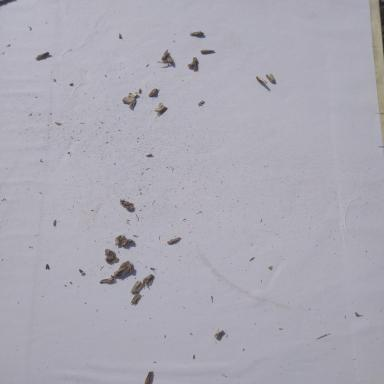pbw: (118, 198, 134, 210), (187, 57, 199, 72), (255, 74, 268, 86), (102, 248, 114, 260), (159, 49, 169, 62), (264, 72, 276, 82), (189, 30, 205, 37), (166, 236, 182, 243), (144, 274, 155, 284), (199, 48, 215, 54), (165, 54, 173, 64), (120, 238, 127, 247), (114, 235, 120, 245)
